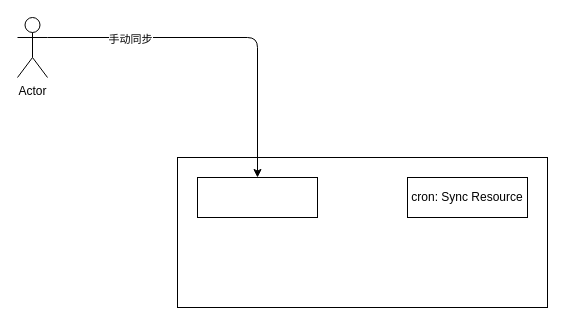
Image size: 565x325. Some labels were removed from this diagram. The box of each missing label's shape, as (x1, y1, x2, y2) in pixels:
cmdb: (176, 156, 548, 308)
secret: (196, 176, 318, 218)
